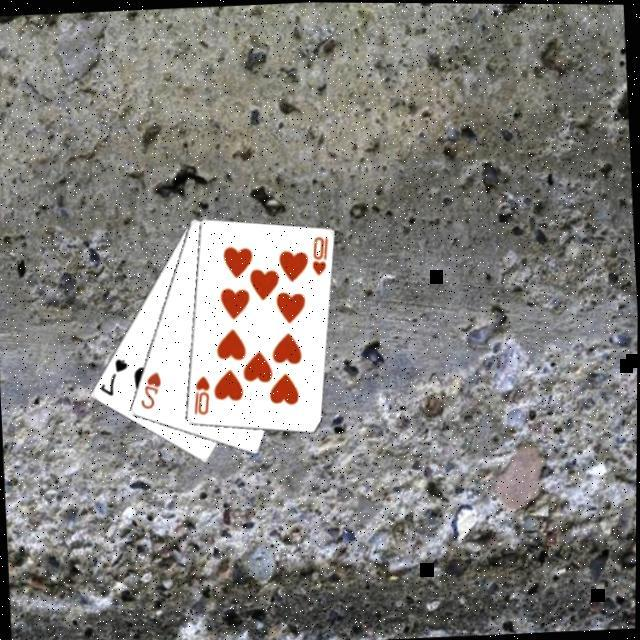10H: (189, 374, 213, 419), (307, 235, 331, 280)
2H: (136, 371, 164, 414)
7S: (95, 357, 131, 401)
